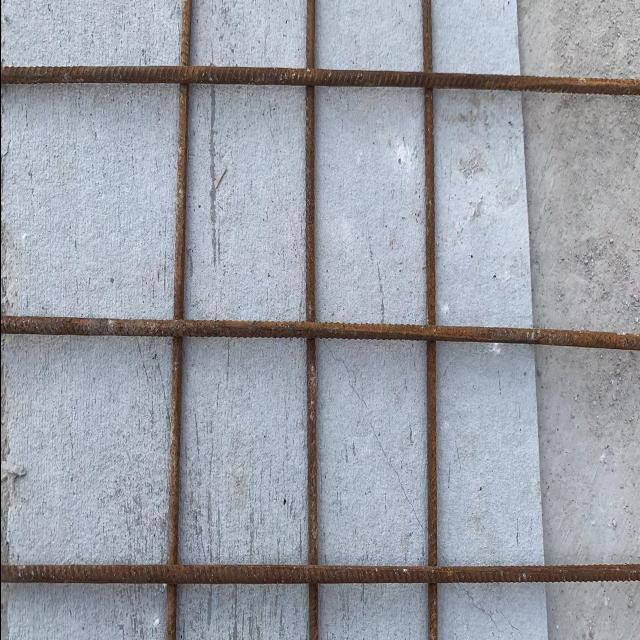ribbed bar: (1, 315, 640, 352), (1, 66, 640, 99), (163, 1, 193, 640), (1, 563, 640, 586), (423, 1, 439, 640), (304, 1, 320, 640)
